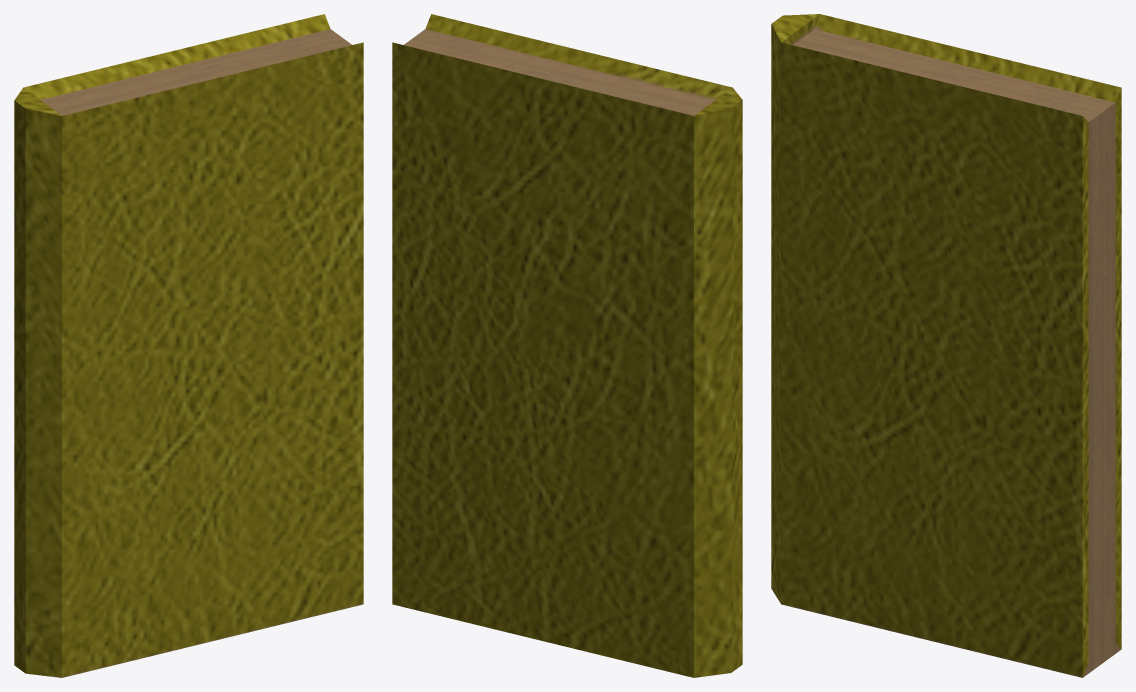
The model's file is Book color 3.fbx.
The picture shows the model from 3 angles, left to right: view 1: azimuth 30°, elevation 25°; view 2: azimuth 150°, elevation 25°; view 3: azimuth 330°, elevation 25°; orthographic projection.
Visible parts, largest first — view 1: Cube; view 2: Cube; view 3: Cube.
Boxes of the visible parts, x1,y1,x2,y2 form: Cube: (14, 14, 363, 677); Cube: (392, 14, 742, 677); Cube: (771, 14, 1121, 677).
Size of the model in its own units: 121 by 201 by 25.05.
1 material, 1 textured.
